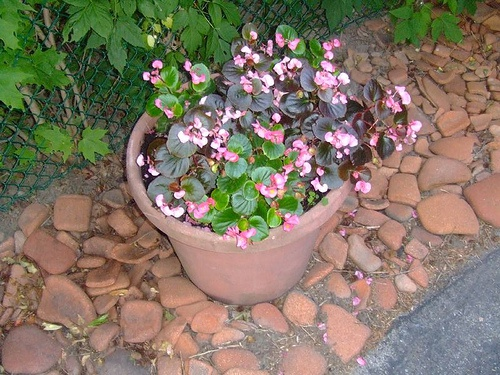flowerpot: (126, 97, 353, 308)
